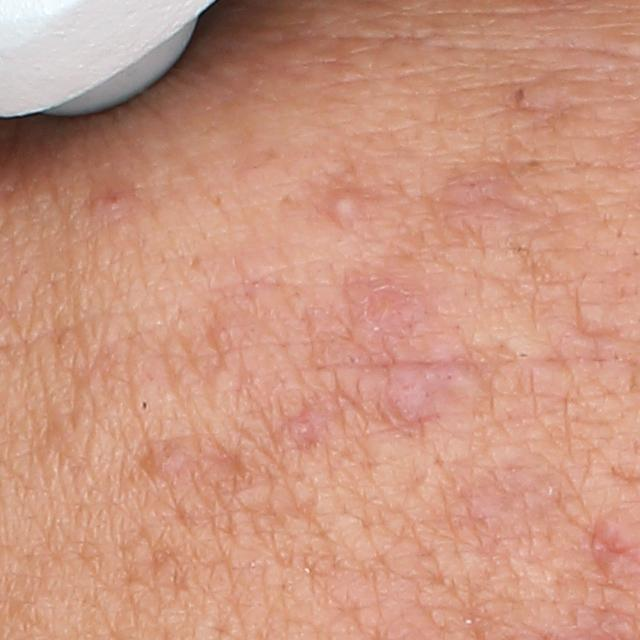atrophic_scar: (561, 291, 627, 347), (585, 514, 637, 581)
comedo: (134, 392, 153, 415)
pustule: (331, 187, 369, 226)
